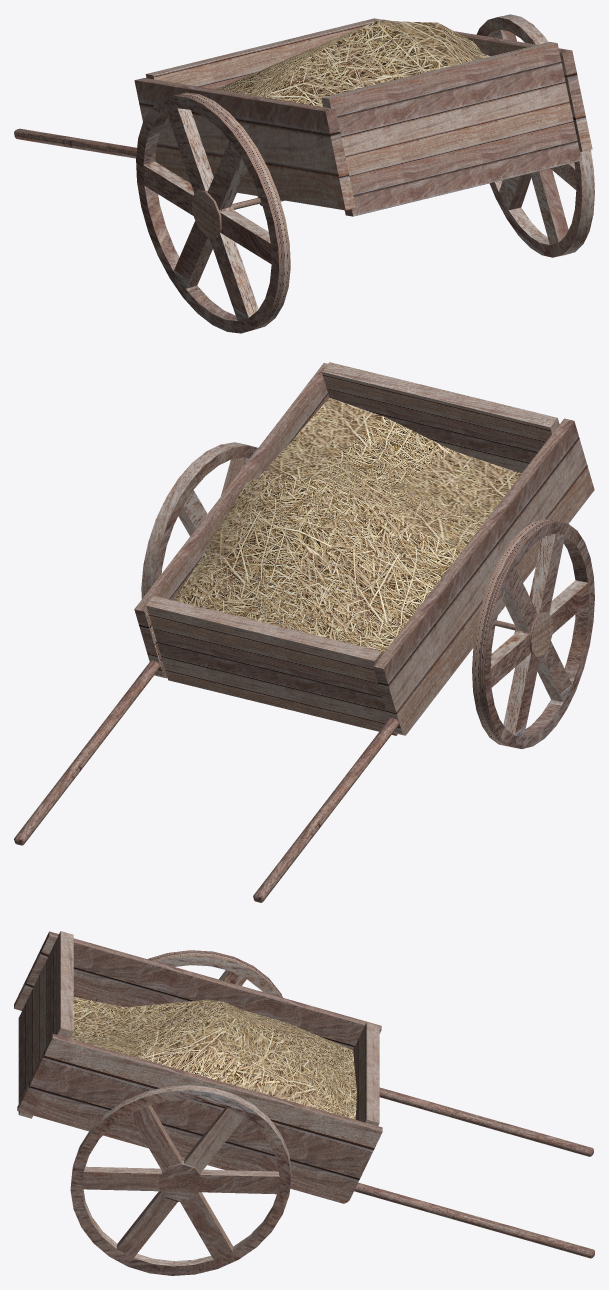
File: Hay Cart.FBX
3 renders of one model, top to bottom at view 1: azimuth 30°, elevation 25°; view 2: azimuth 150°, elevation 25°; view 3: azimuth 270°, elevation 25°, orthographic. The views are drawn at different scales.
Visible parts, largest first — view 1: Plane01; view 2: Plane01; view 3: Plane01.
Part boxes in pixels (left/top/right/bottom): Plane01: left=14, top=14, right=594, bottom=333; Plane01: left=14, top=362, right=594, bottom=902; Plane01: left=14, top=931, right=594, bottom=1275.
Size of the model in its own units: 41.52 by 30.11 by 69.74.
2 materials, 2 textured.
